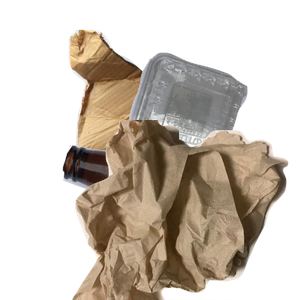cardboard: (66, 27, 242, 197)
glass: (60, 142, 300, 300)
plastic: (123, 50, 300, 214)
trash: (70, 120, 300, 300)
